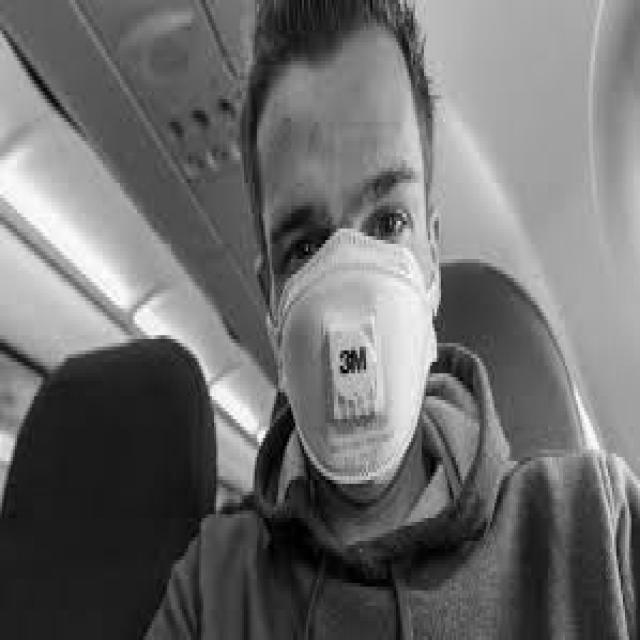fake: (237, 224, 450, 498)
real: (246, 28, 451, 509)
